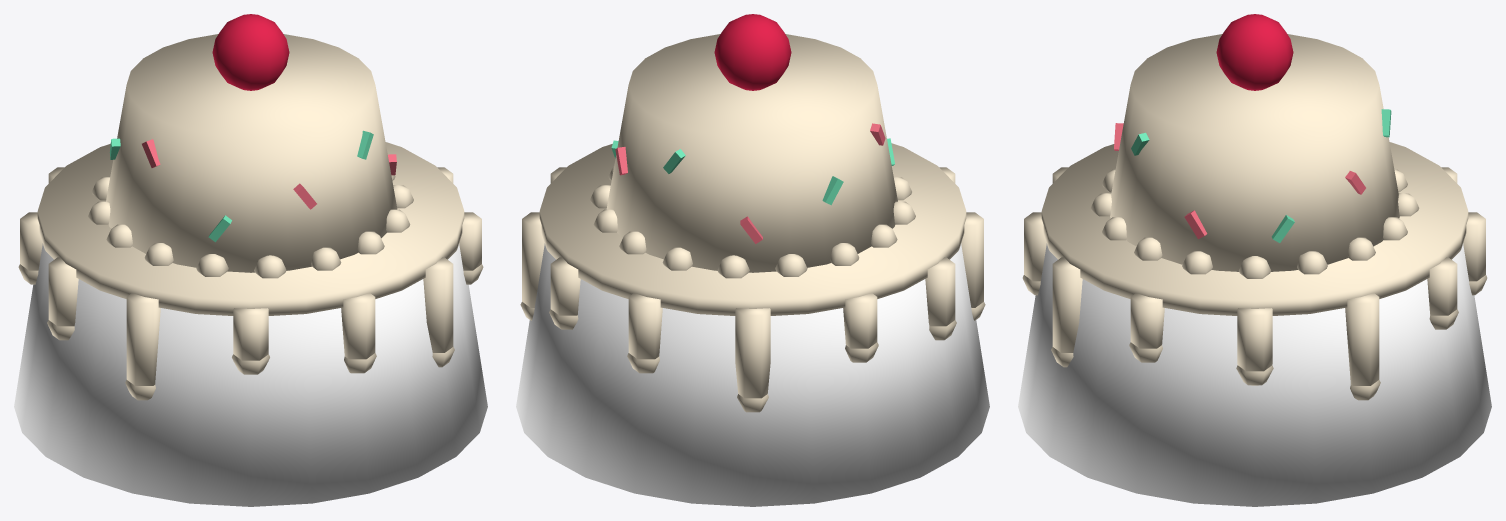
File: hero-cake.glb
3 renders of one model, left to right at view 1: azimuth 30°, elevation 25°; view 2: azimuth 150°, elevation 25°; view 3: azimuth 270°, elevation 25°, orthographic.
Visible parts, largest first — view 1: hero-cake; view 2: hero-cake; view 3: hero-cake.
Boxes of the visible parts, x1,y1,x2,y2 form: hero-cake: (14,14,487,506); hero-cake: (516,14,989,506); hero-cake: (1018,14,1491,506).
Bounding box in the file's own units: 1.6 × 1.45 × 1.6.
2 materials, 1 textured.
